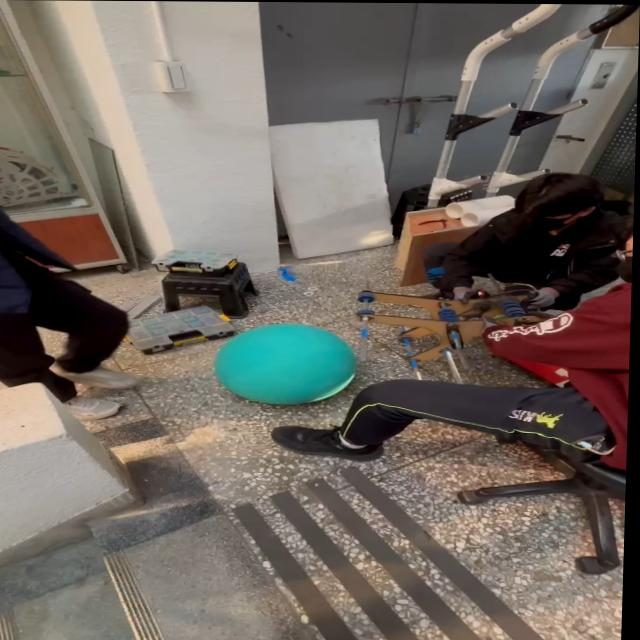ALGAE: (211, 322, 359, 407)
